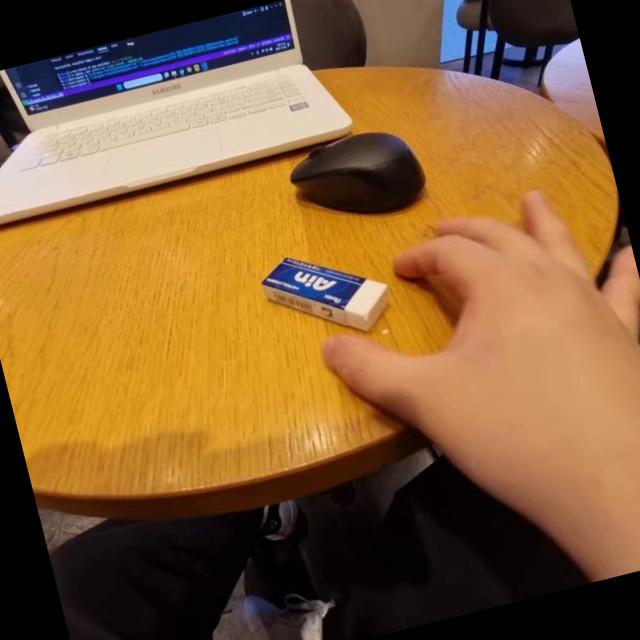eraser: (247, 228, 398, 346)
hand: (404, 175, 640, 499)
mouse: (274, 116, 432, 236)
